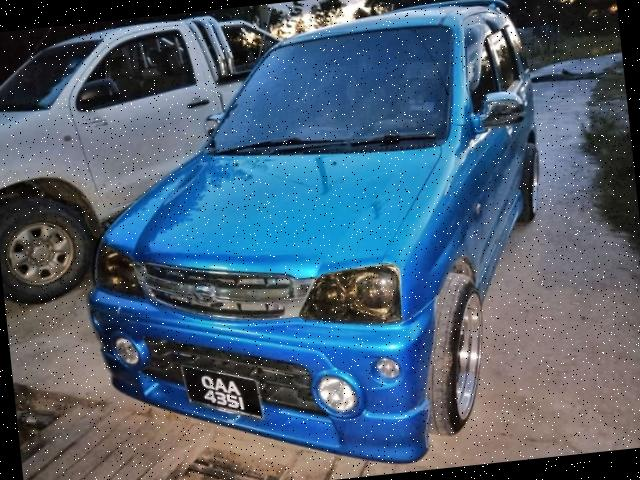License_Plate: (181, 360, 265, 432)
car: (68, 1, 576, 480)
